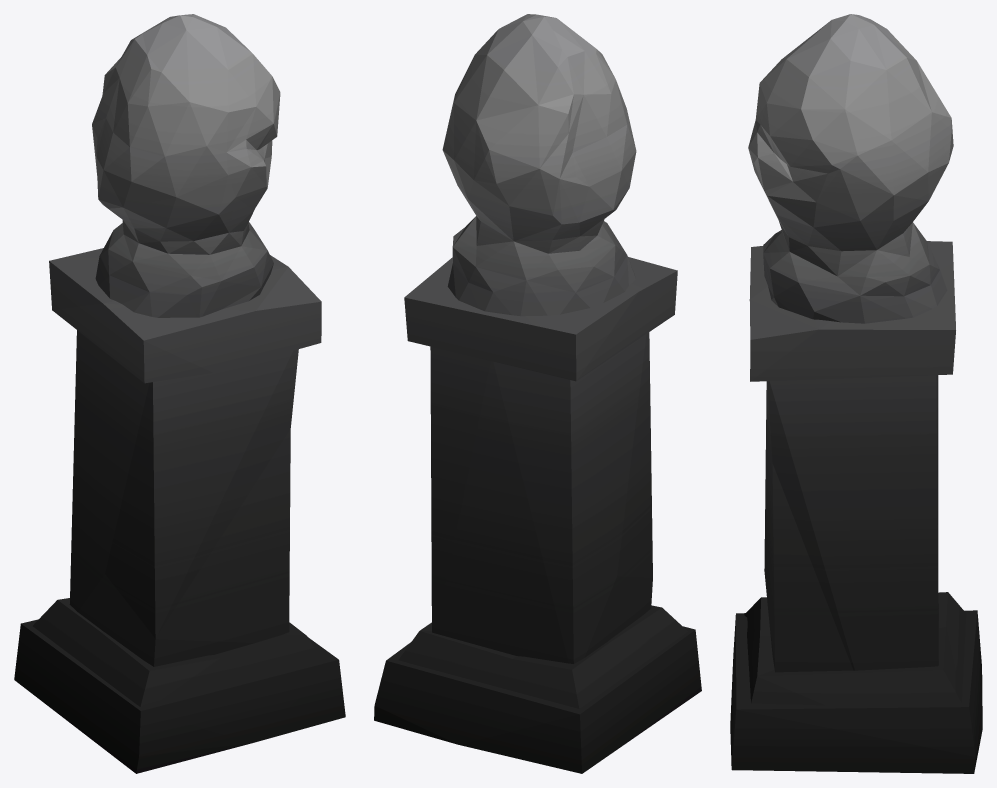
The model's file is EA_Grave_Obelisk_01a.glb.
3 renders of one model, left to right at view 1: azimuth 30°, elevation 25°; view 2: azimuth 150°, elevation 25°; view 3: azimuth 270°, elevation 25°, orthographic. The views are drawn at different scales.
Parts seen in each view (by area): view 1: EA_Grave_Obelisk_01a; view 2: EA_Grave_Obelisk_01a; view 3: EA_Grave_Obelisk_01a.
Boxes of the visible parts, x1,y1,x2,y2 form: EA_Grave_Obelisk_01a: (14,14,345,773); EA_Grave_Obelisk_01a: (374,14,701,773); EA_Grave_Obelisk_01a: (730,14,982,773).
Size of the model in its own units: 0.8892 by 2.77 by 0.8937.
1 material, 1 textured.
